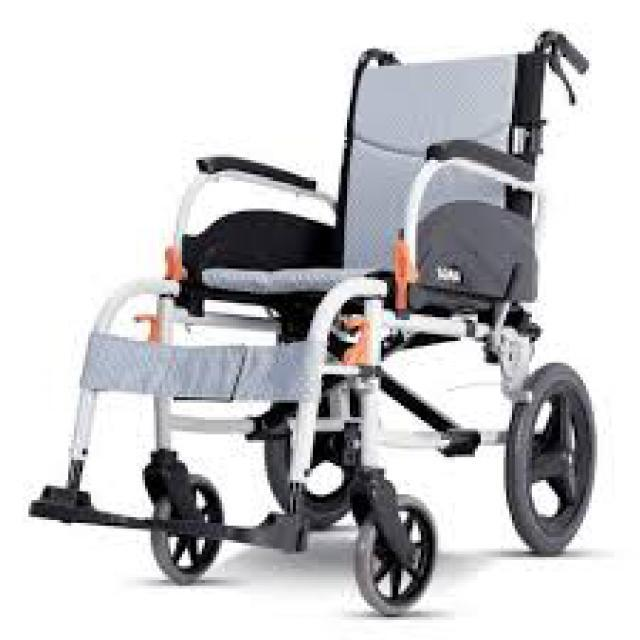wheelchair: (19, 20, 612, 637)
